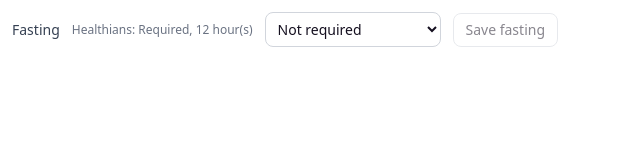
FastingOverrideControl › saves "Not required" and reports the saved correction
Select "Not required" in the dropdown labelled "Fasting": {"x": 352, "y": 30} [264, 12, 440, 47]
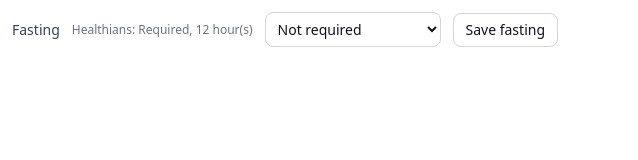
Click the button "Save fasting": {"x": 505, "y": 30} [452, 12, 558, 46]
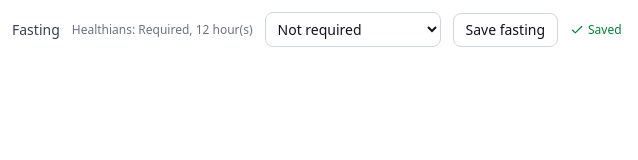
Expected: the text "Saved" is shown, [570, 22, 622, 38]
